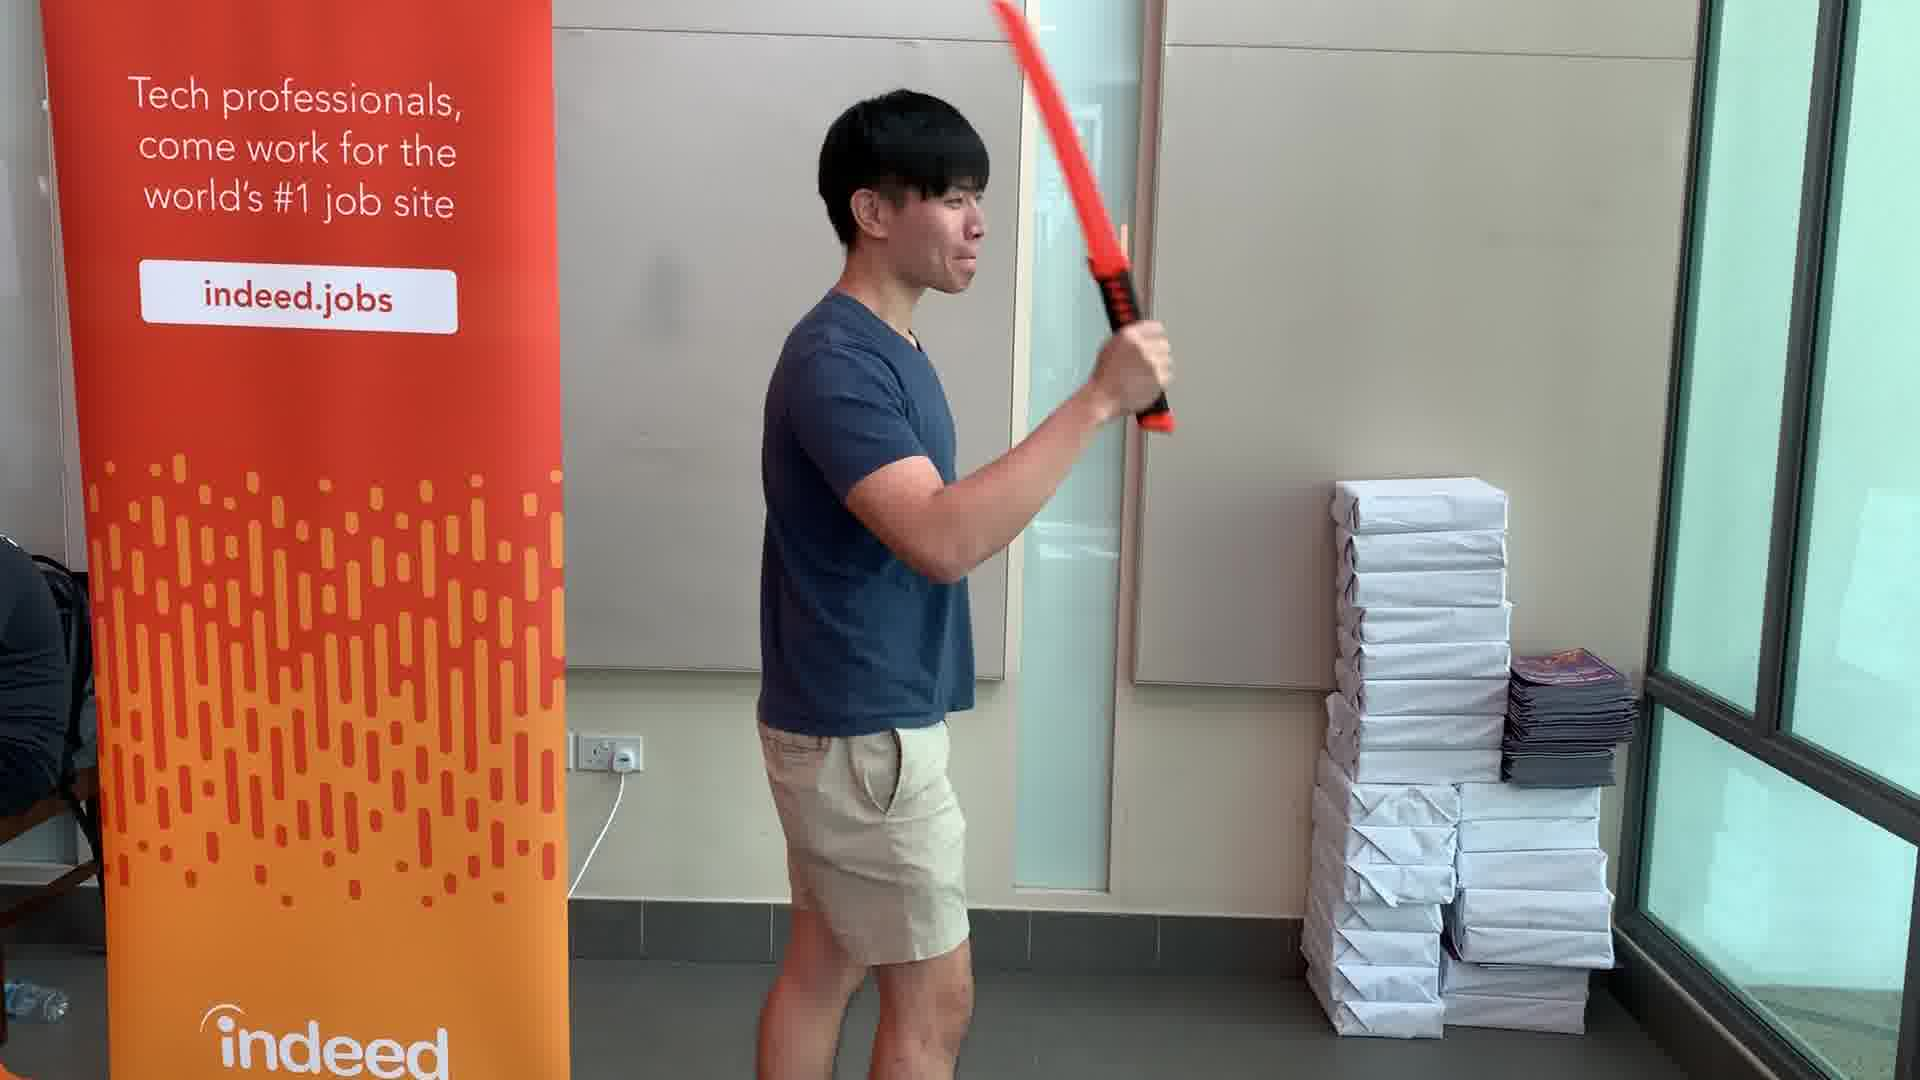knife: (985, 1, 1189, 444)
